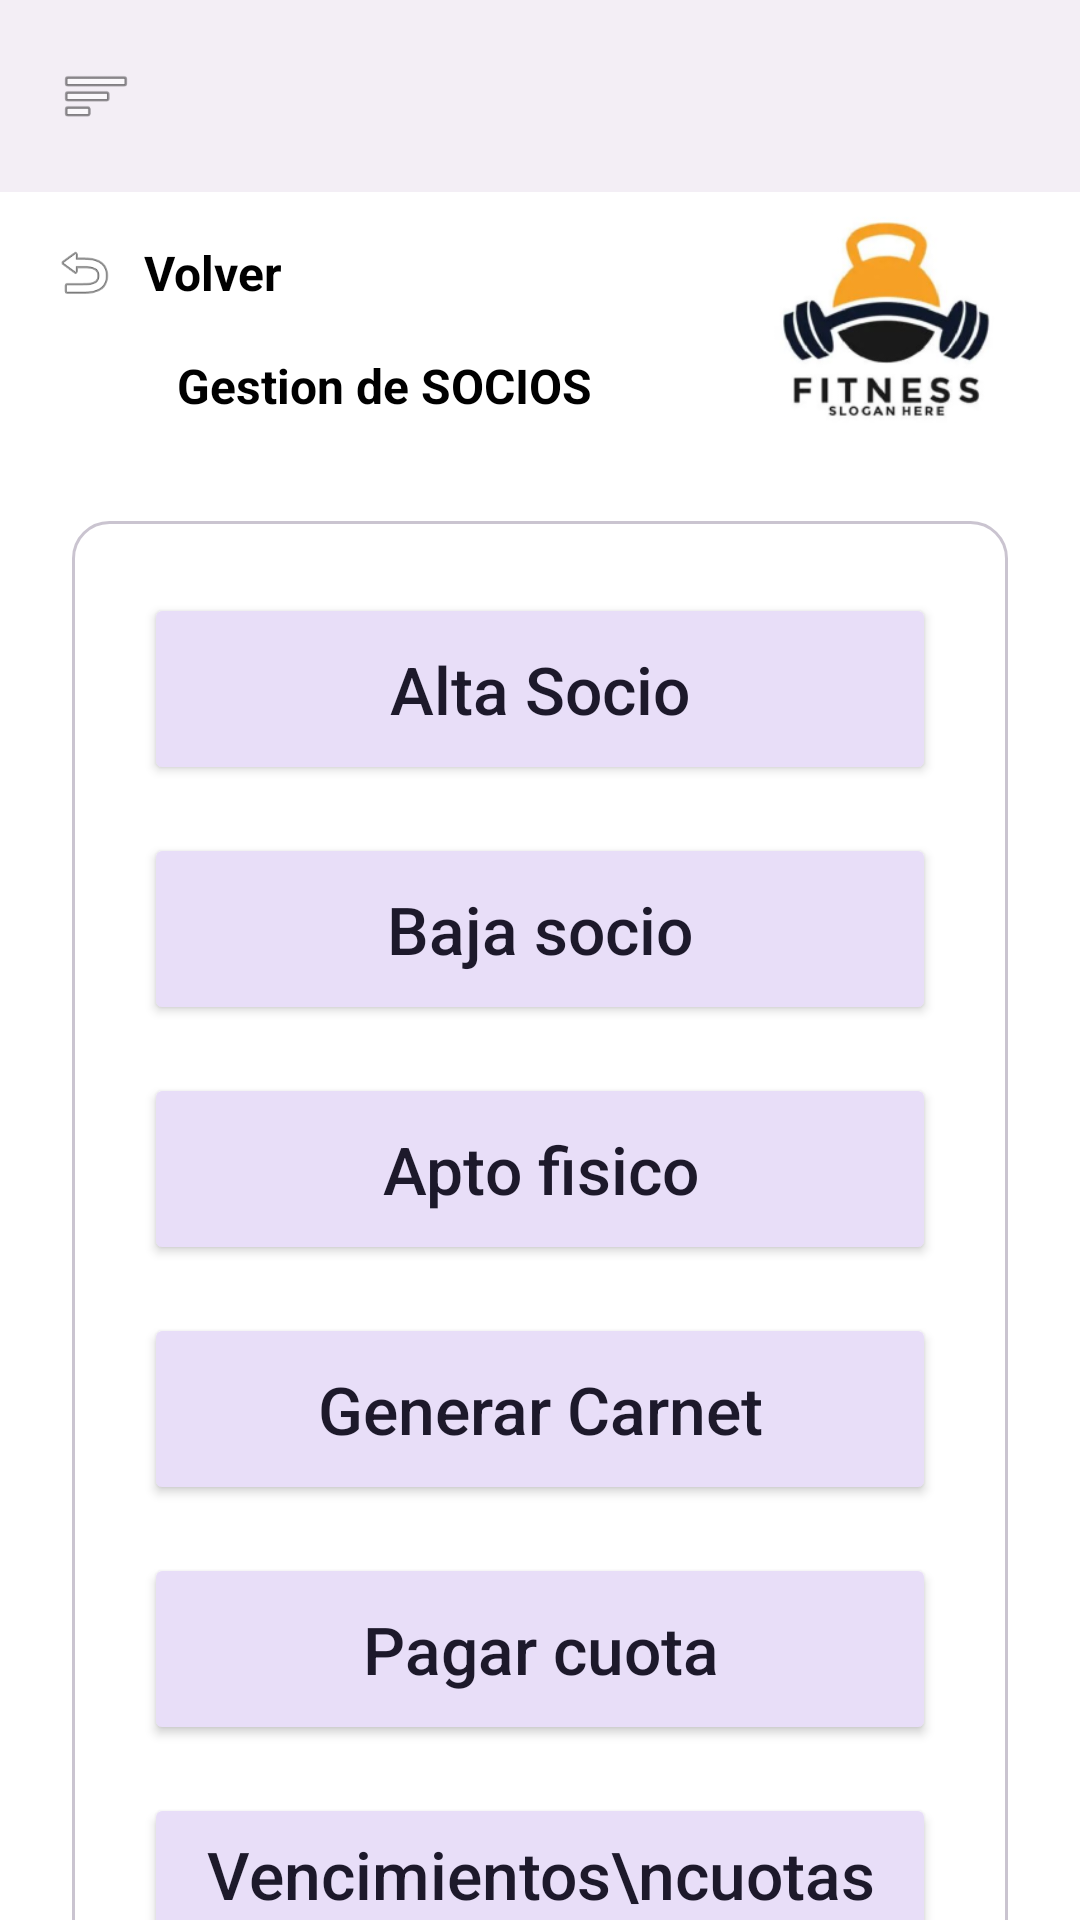

Named icons in this screenshot (1080*1920) and their bounding boxes, rect(x1, y1, x2, y2):
revert: rect(61, 252, 108, 294)
sort by size: rect(65, 76, 127, 117)
